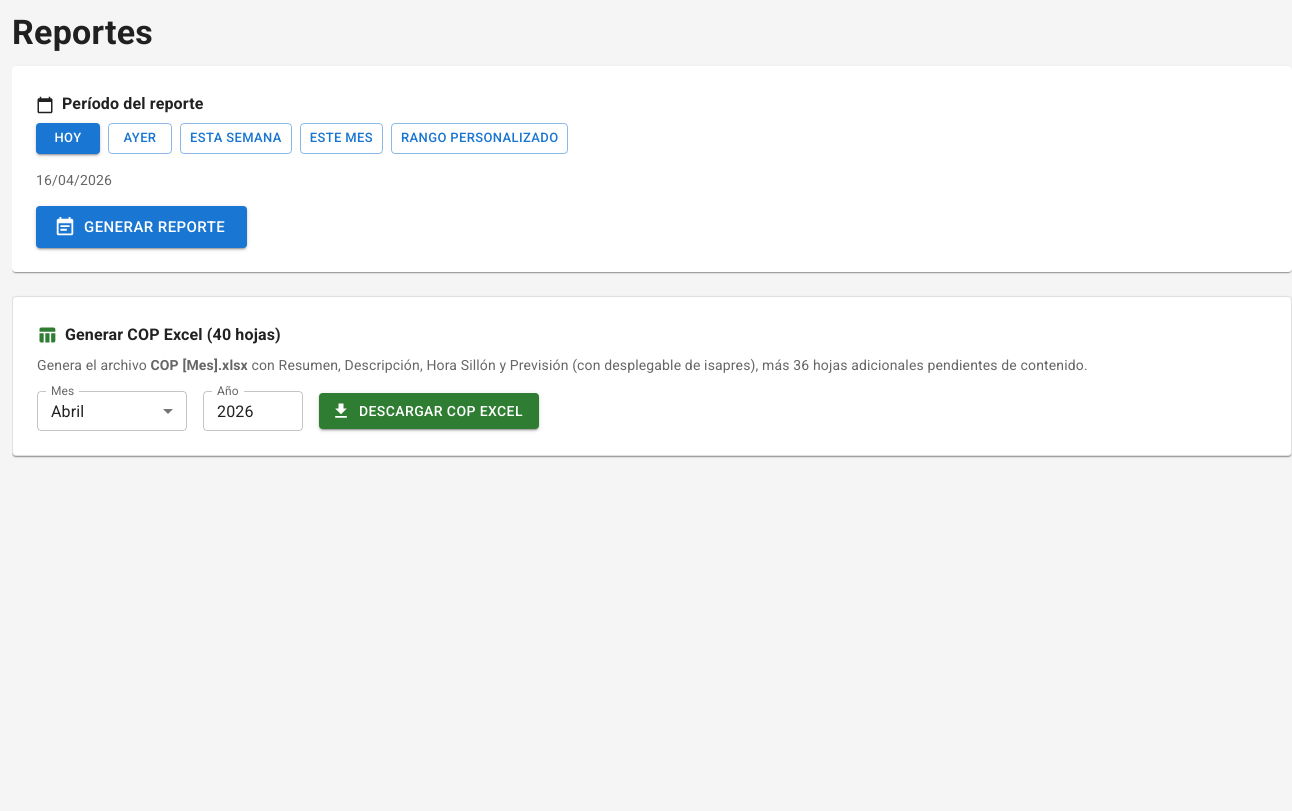
Reportes › muestra botón Exportar Excel cuando hay datos
Click the button "Generar Reporte".
click(142, 227)  # box [36,206,247,248]
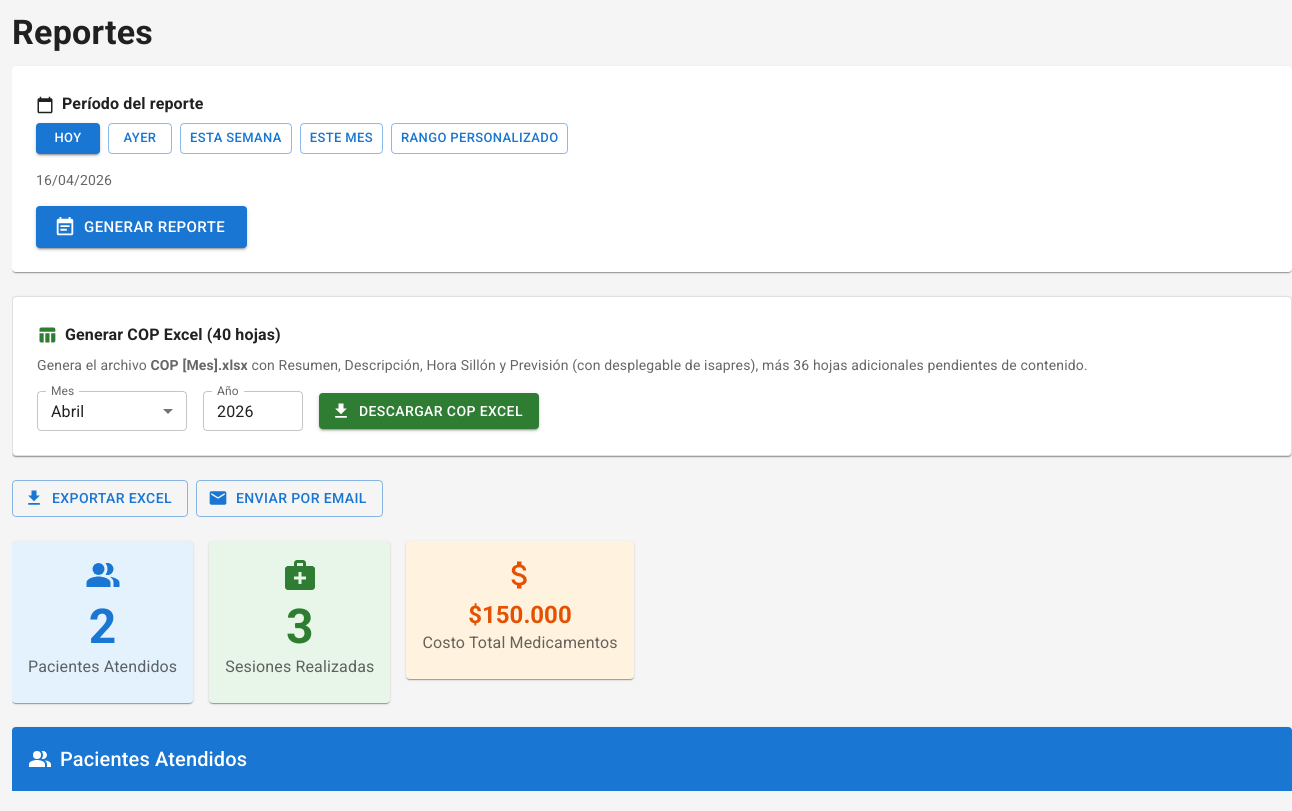
Expected: the button "Exportar Excel" is shown, [12,480,188,517]
